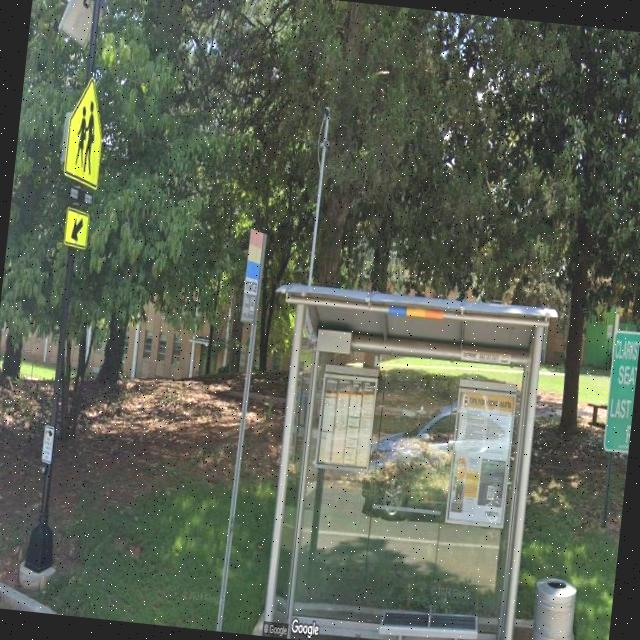seating: (375, 602, 479, 640)
shelter: (240, 277, 558, 640)
trash_can: (527, 575, 579, 640)
